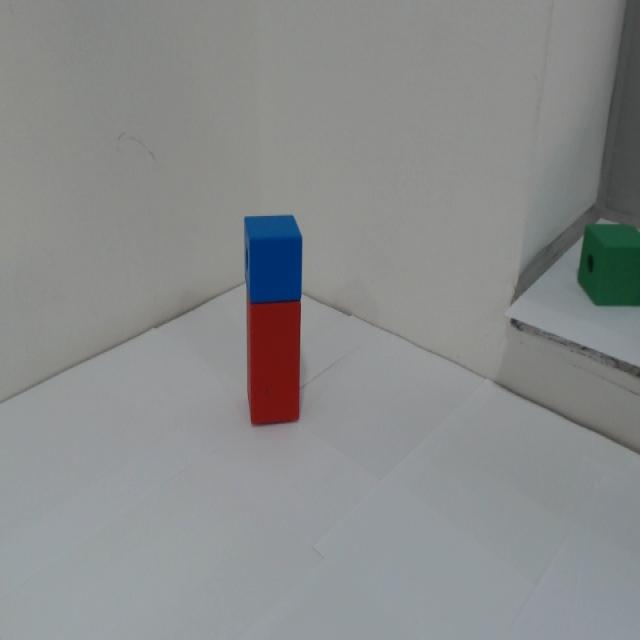cube: (228, 187, 322, 302)
